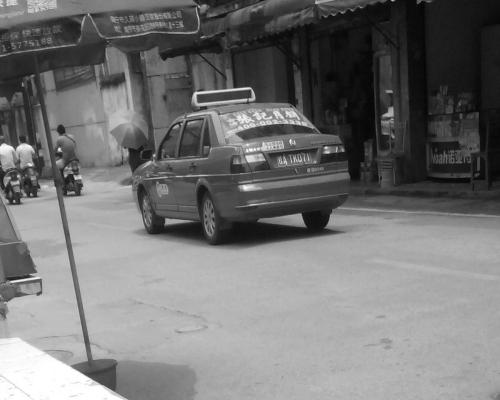Carplate: (275, 148, 318, 168)
